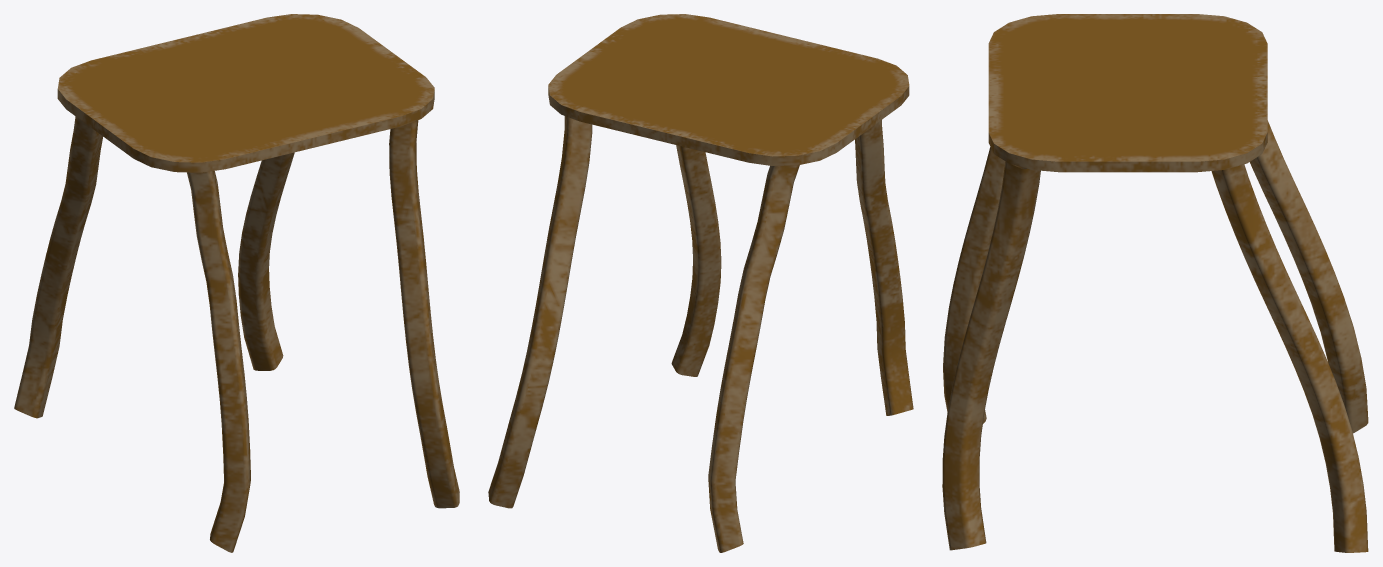
The model's file is Isu.fbx.
3 renders of one model, left to right at view 1: azimuth 30°, elevation 25°; view 2: azimuth 150°, elevation 25°; view 3: azimuth 270°, elevation 25°, orthographic. The views are drawn at different scales.
Parts seen in each view (by area): view 1: Isu; view 2: Isu; view 3: Isu.
Boxes of the visible parts, x1=… form: Isu: x1=14, y1=14, x2=459, y2=552; Isu: x1=488, y1=14, x2=913, y2=552; Isu: x1=942, y1=14, x2=1368, y2=552.
Bounding box in the file's own units: 1.56 × 1.99 × 1.9.
